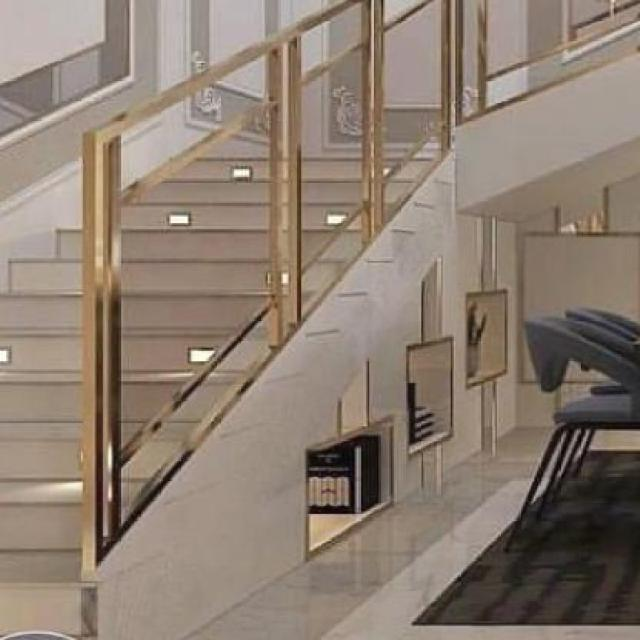stair: (2, 47, 470, 616)
